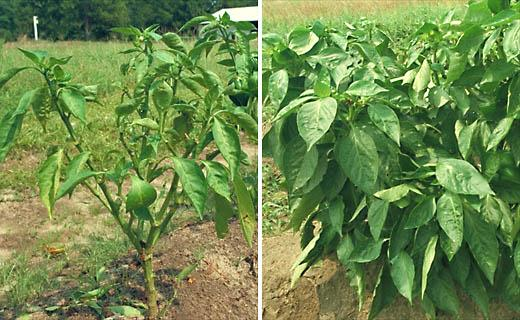Tomato leaf late blight: (446, 190, 500, 283), (329, 118, 382, 192), (434, 156, 498, 200), (295, 93, 339, 154), (173, 155, 213, 222), (225, 165, 257, 247), (34, 144, 64, 226), (212, 108, 246, 179), (366, 101, 405, 153), (389, 245, 417, 305), (364, 188, 393, 245), (439, 191, 464, 250), (127, 176, 158, 223), (350, 233, 390, 268), (58, 84, 91, 124), (455, 117, 481, 157), (149, 54, 180, 68)
